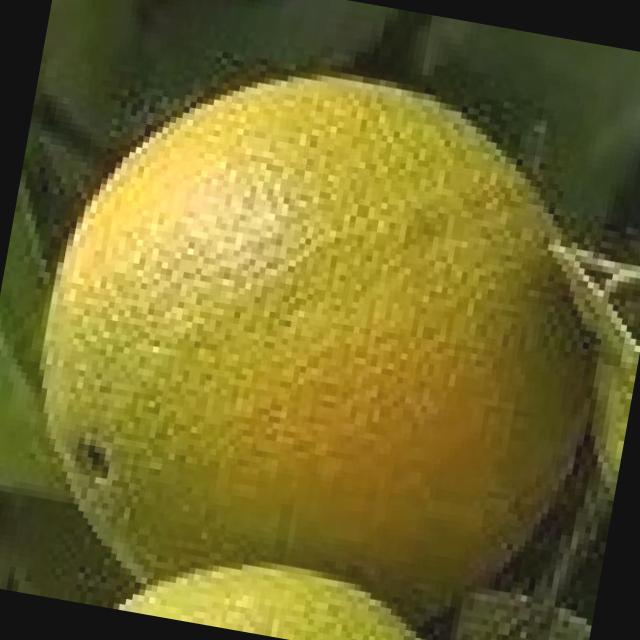Orange: (0, 0, 640, 640), (113, 536, 463, 640)
